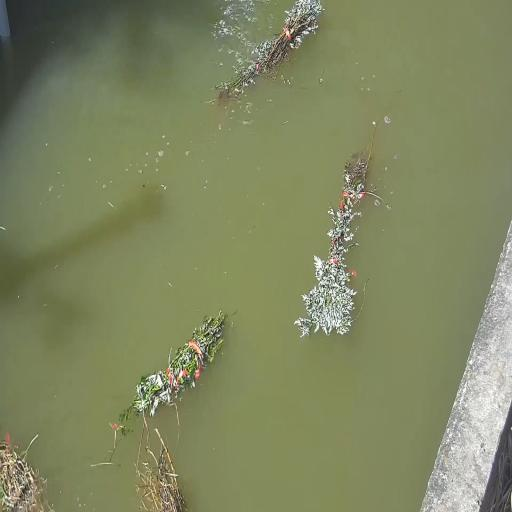twig: (292, 121, 379, 341), (117, 307, 228, 435), (209, 0, 323, 103), (134, 391, 190, 512), (0, 429, 57, 512)
